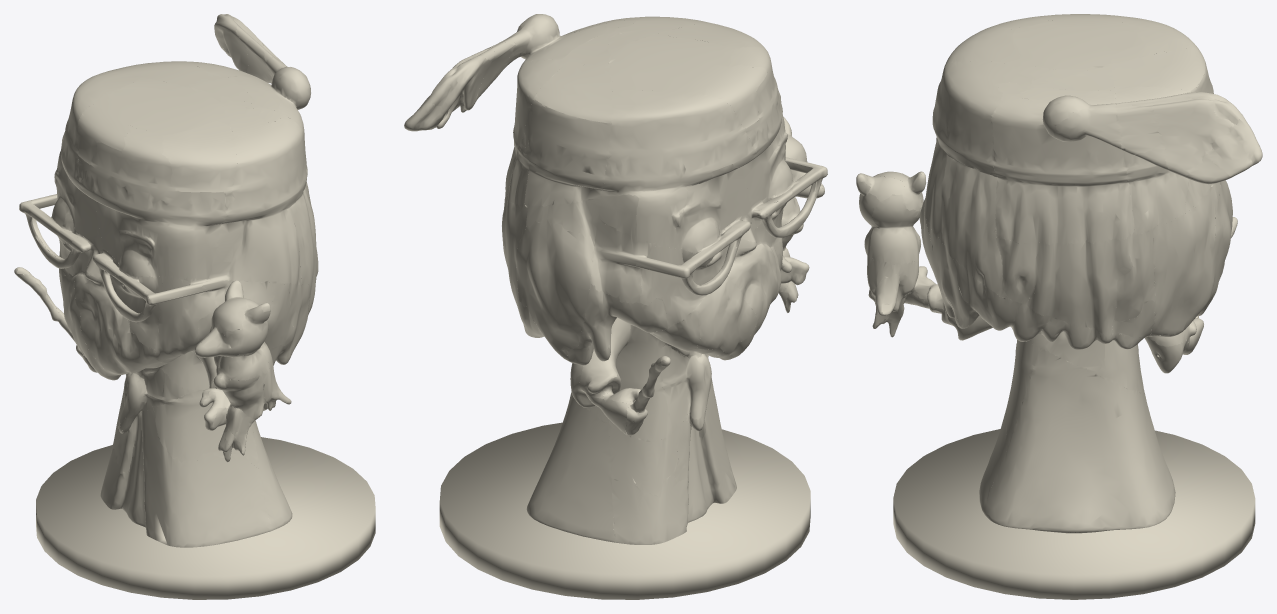
Rendered from figure.glb.
The picture shows the model from 3 angles, left to right: view 1: azimuth 30°, elevation 25°; view 2: azimuth 150°, elevation 25°; view 3: azimuth 270°, elevation 25°; orthographic projection. The views are drawn at different scales.
Visible parts, largest first — view 1: Dumbledore+funko+pop+stl.stl / Dumbledore+funko+pop+stl; view 2: Dumbledore+funko+pop+stl.stl / Dumbledore+funko+pop+stl; view 3: Dumbledore+funko+pop+stl.stl / Dumbledore+funko+pop+stl.
Boxes of the visible parts, <box> form: Dumbledore+funko+pop+stl.stl / Dumbledore+funko+pop+stl: <box>14,14,375,599</box>; Dumbledore+funko+pop+stl.stl / Dumbledore+funko+pop+stl: <box>404,14,827,599</box>; Dumbledore+funko+pop+stl.stl / Dumbledore+funko+pop+stl: <box>856,14,1262,599</box>.
Bounding box in the file's own units: 0.1941 × 0.28 × 0.2178.
